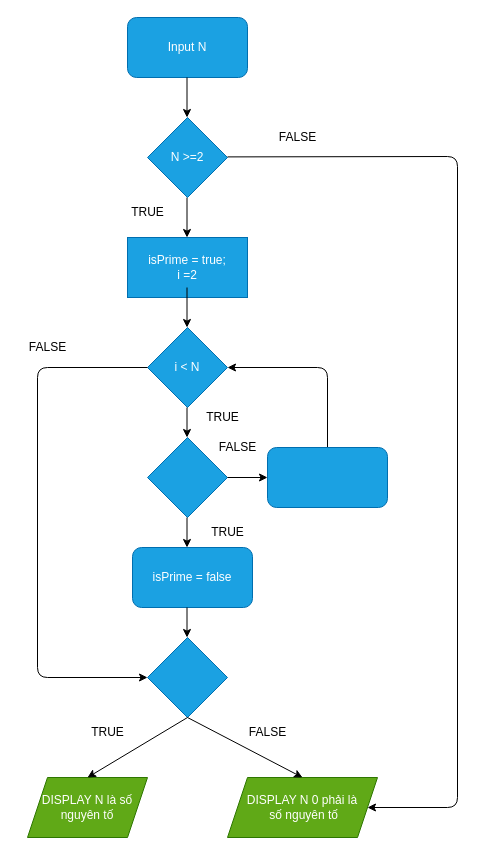
This 483x855 diagram has some shape labels left out. The shapes that lost their labels are listed below. From the top down, each one's box as (x1, y1, x2, y2) in pixels, then its label:
(146, 436, 228, 518): N % I == 0
(266, 446, 388, 508): i = i +1
(146, 636, 228, 718): isPrime
